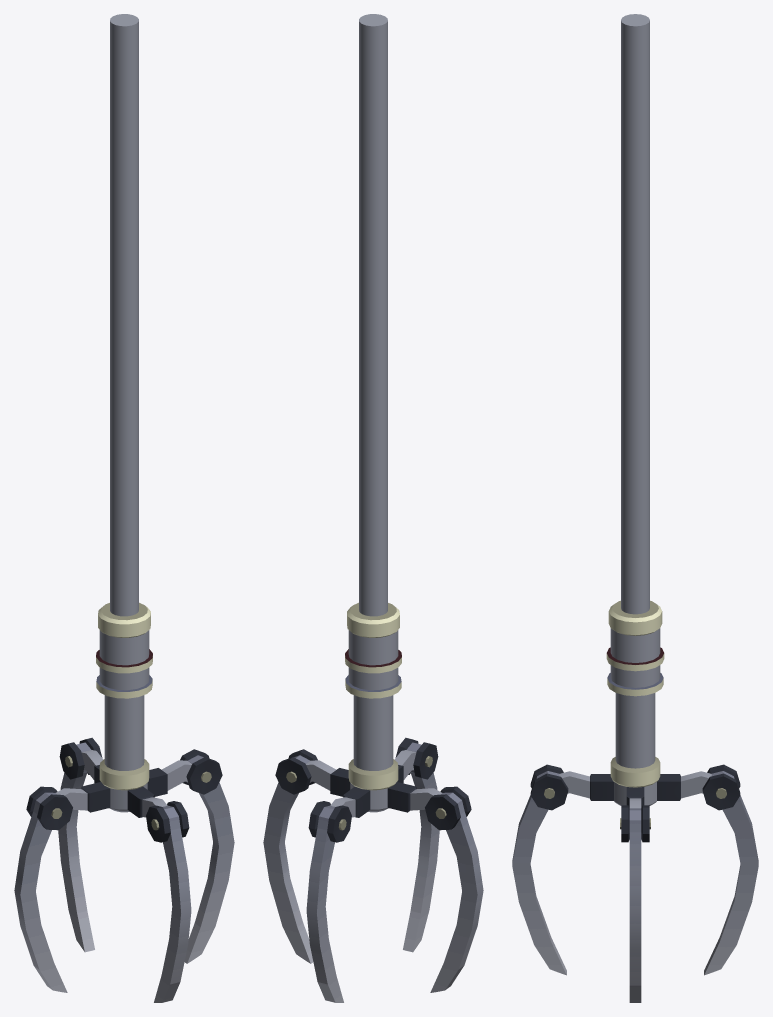
The model's file is SM_GrabbyHand.fbx.
3 views of the same model, side by side, from view 1: azimuth 30°, elevation 25°; view 2: azimuth 150°, elevation 25°; view 3: azimuth 270°, elevation 25° (orthographic).
Visible parts, largest first — view 1: claw_handle, claw_2, claw_4, claw_1, claw_3; view 2: claw_handle, claw_2, claw_4, claw_3, claw_1; view 3: claw_handle, claw_1, claw_3, claw_4.
Part boxes in pixels (x1,y1,x2,y2): claw_handle: (56, 14, 191, 817); claw_2: (14, 786, 72, 992); claw_4: (180, 749, 234, 963); claw_1: (146, 801, 191, 1002); claw_3: (58, 737, 102, 952); claw_handle: (306, 14, 441, 817); claw_2: (425, 786, 483, 992); claw_4: (263, 749, 317, 963); claw_3: (306, 801, 351, 1002); claw_1: (395, 737, 439, 952); claw_handle: (559, 14, 711, 808); claw_1: (512, 764, 568, 975); claw_3: (702, 764, 758, 975); claw_4: (620, 805, 650, 1002).
Size of the model in its own units: 77.84 by 332 by 77.84.
